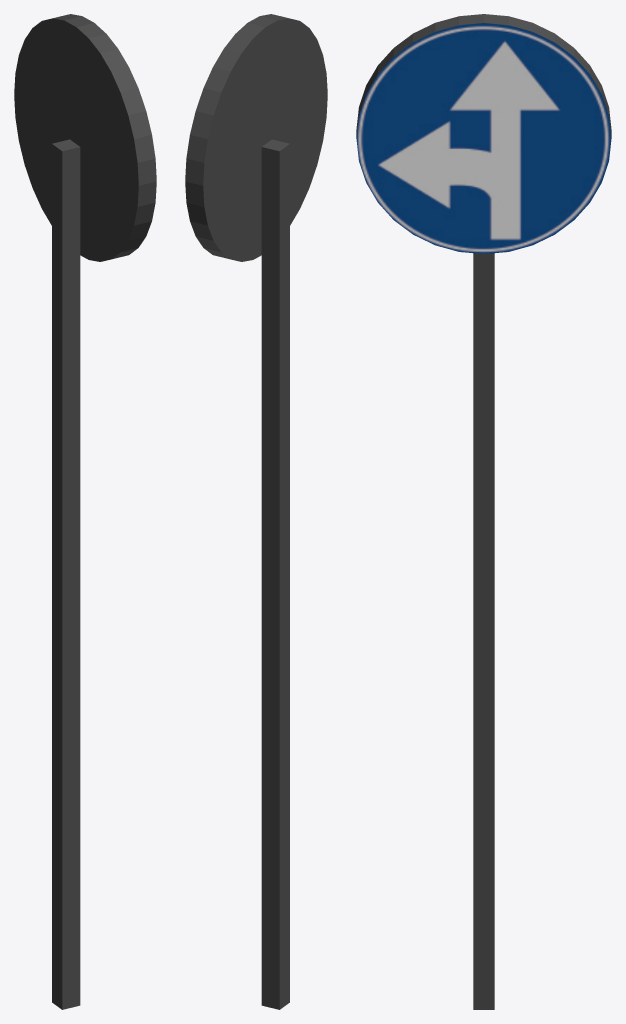
Rendered from ileri_veya_sola_mecburi_levha.dae.
3 views of the same model, side by side, from view 1: azimuth 30°, elevation 25°; view 2: azimuth 150°, elevation 25°; view 3: azimuth 270°, elevation 25° (orthographic). The views are drawn at different scales.
Parts seen in each view (by area): view 1: Cube.004, Cube.001; view 2: Cube.004, Cube.001; view 3: Cube.001, Cube.004.
Part boxes in pixels (x1=…): Cube.004: x1=52, y1=139, x2=80, y2=1009; Cube.001: x1=14, y1=14, x2=156, y2=261; Cube.004: x1=261, y1=139, x2=289, y2=1009; Cube.001: x1=185, y1=14, x2=327, y2=261; Cube.001: x1=356, y1=14, x2=611, y2=253; Cube.004: x1=473, y1=253, x2=494, y2=1009.
Bounding box in the file's own units: 0.1039 × 0.6 × 2.59.
Materials: 2 (1 with a texture image).
